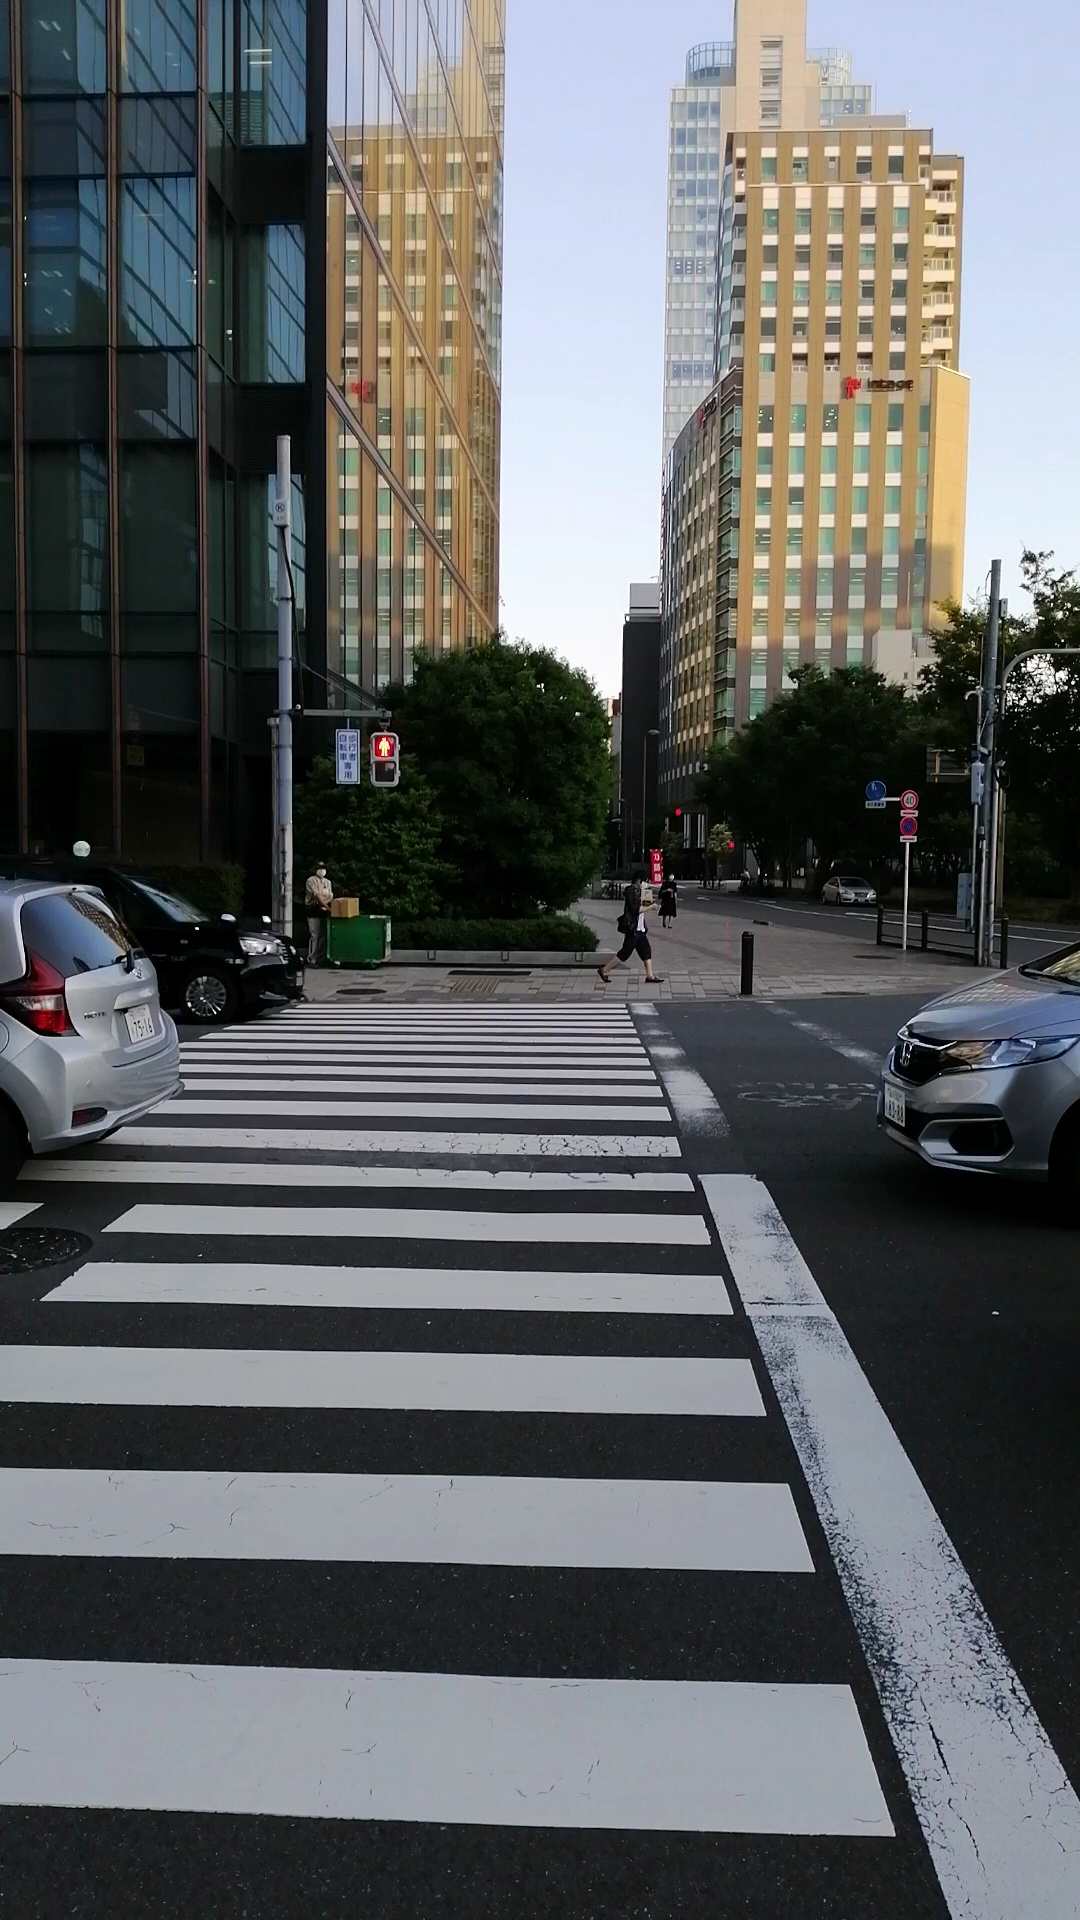red: (368, 731, 401, 787)
